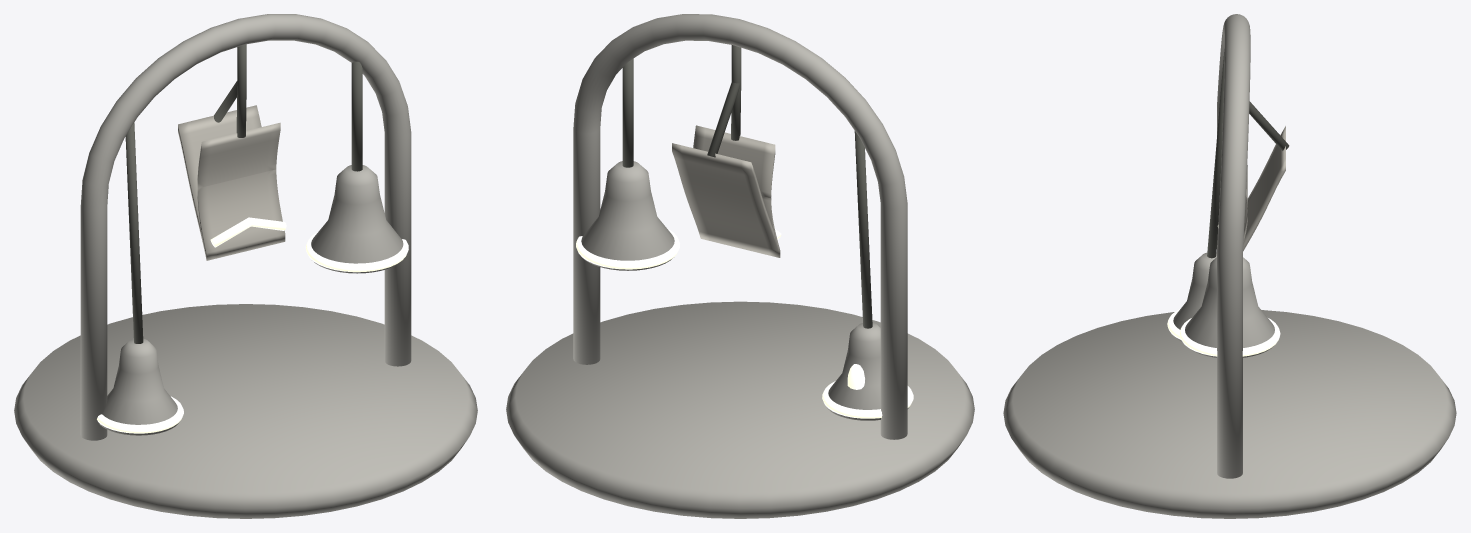
The model's file is structure-bell-arch.glb.
The picture shows the model from 3 angles, left to right: view 1: azimuth 30°, elevation 25°; view 2: azimuth 150°, elevation 25°; view 3: azimuth 270°, elevation 25°; orthographic projection. The views are drawn at different scales.
Parts seen in each view (by area): view 1: awake, dormant; view 2: awake, dormant; view 3: awake.
Part boxes in pixels (<box>): awake: <box>14,14,477,518</box>; dormant: <box>197,44,285,259</box>; awake: <box>506,14,974,518</box>; dormant: <box>693,45,780,256</box>; awake: <box>1003,14,1456,518</box>.
Size of the model in its own units: 2.96 by 2.83 by 2.96.
